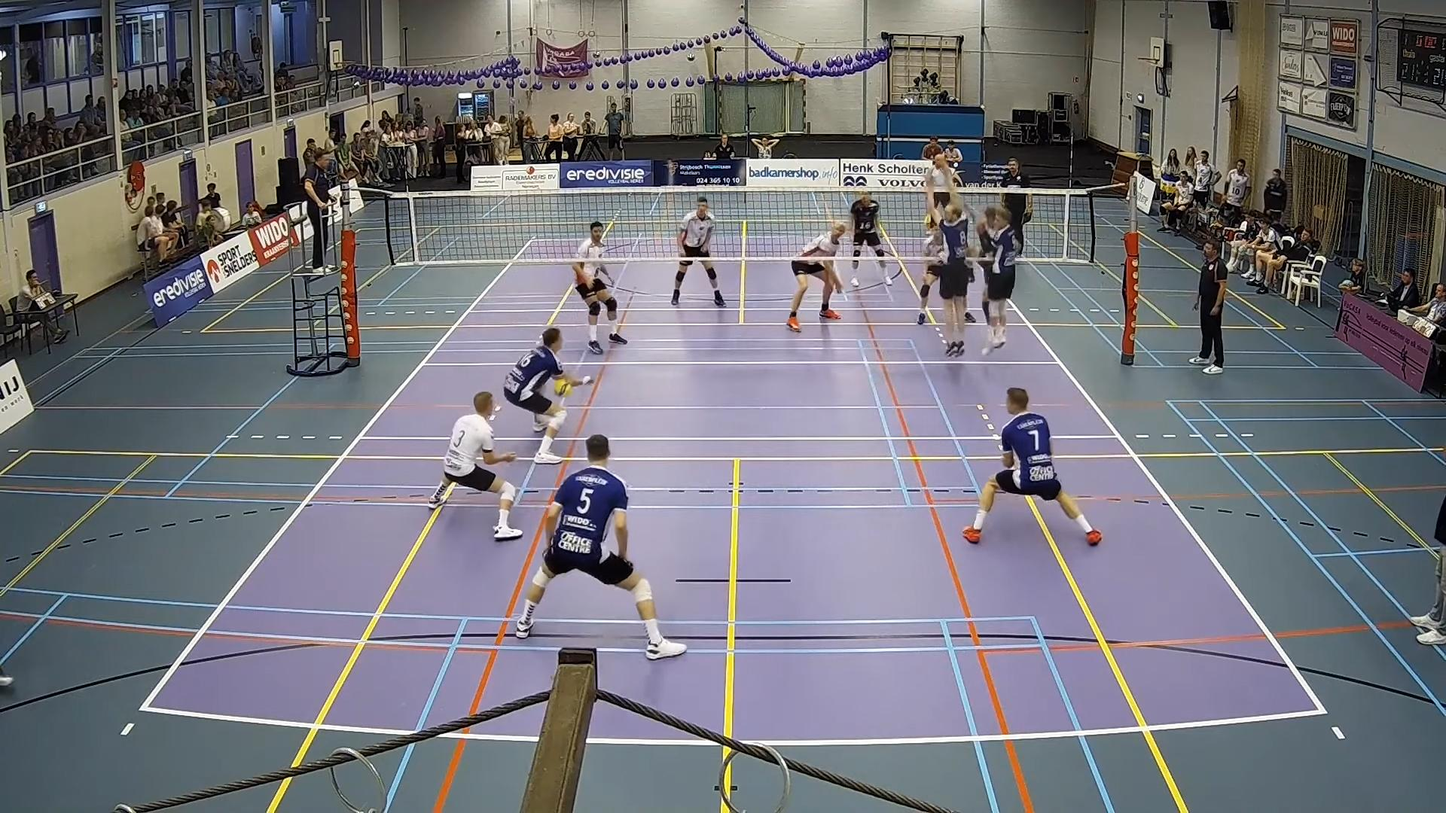difesa: (503, 325, 599, 467)
